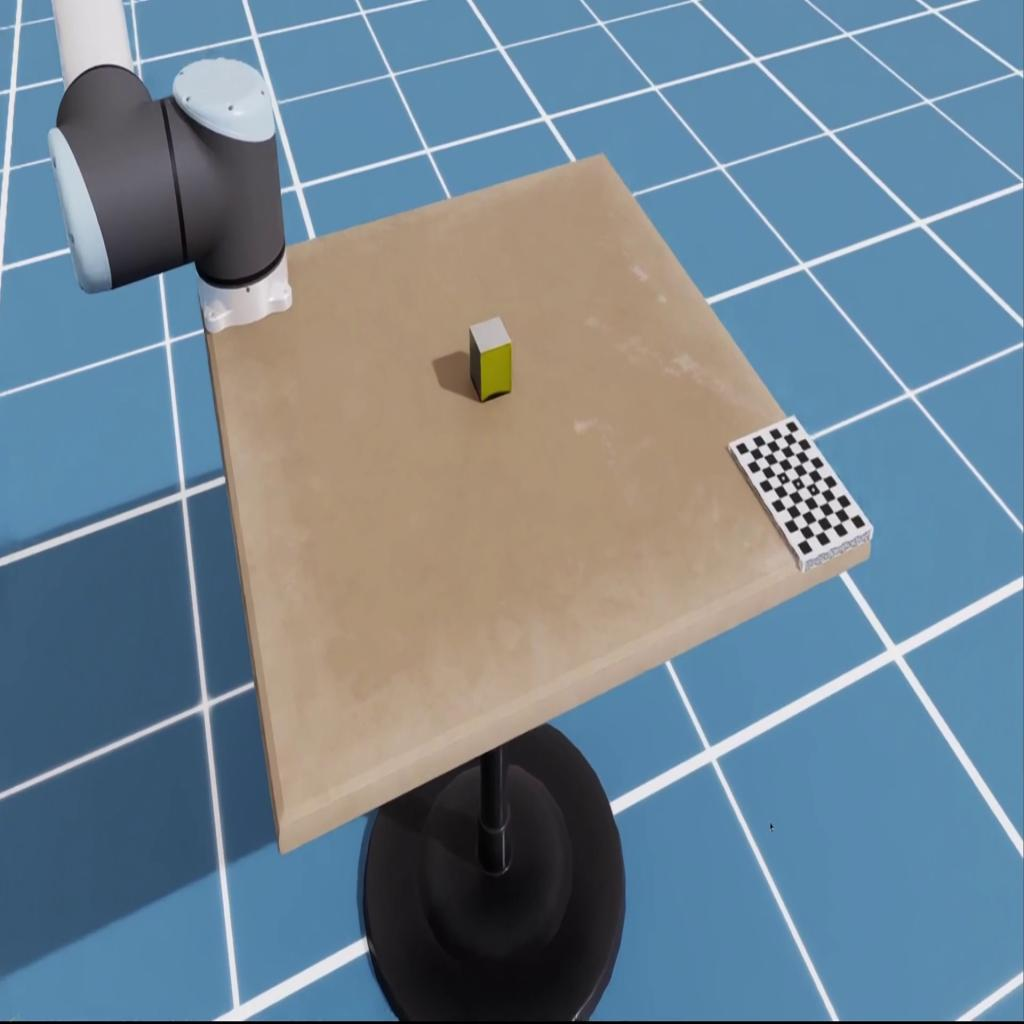Cube: (468, 315, 512, 402)
QR: (727, 412, 873, 574)
Robot: (48, 0, 295, 336)
Table: (200, 152, 870, 855)
